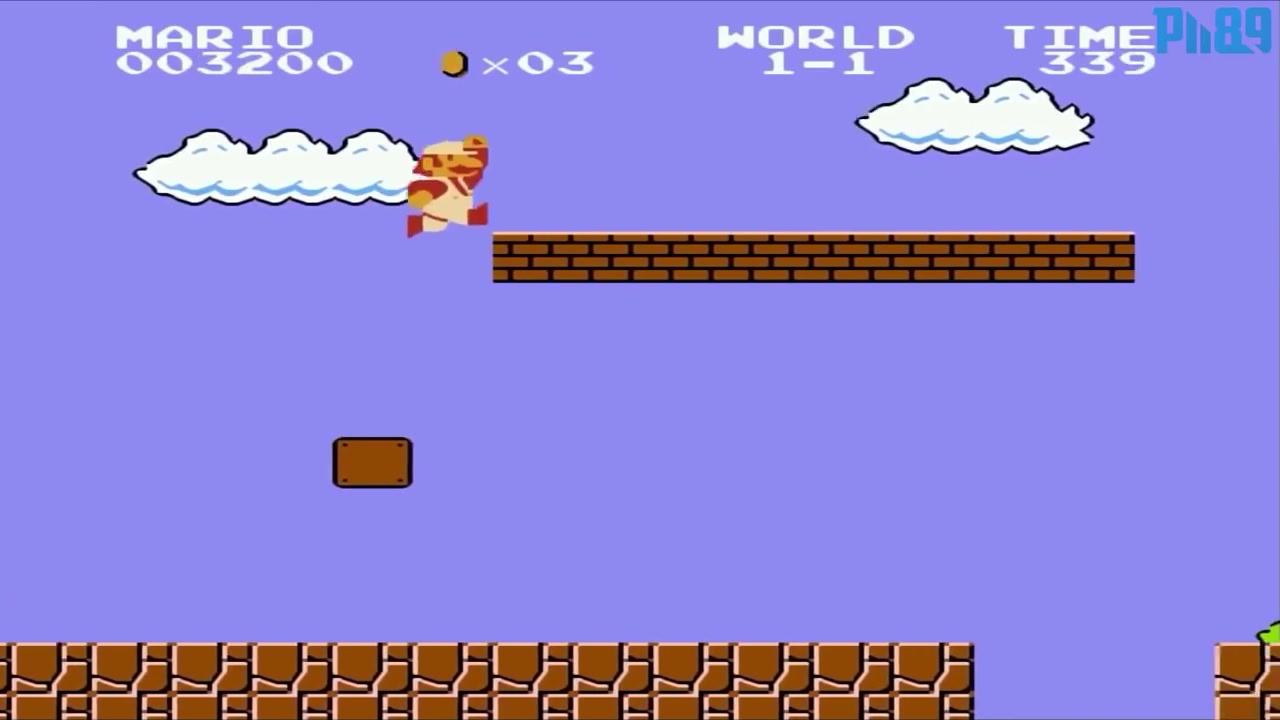mario: (397, 131, 505, 244)
